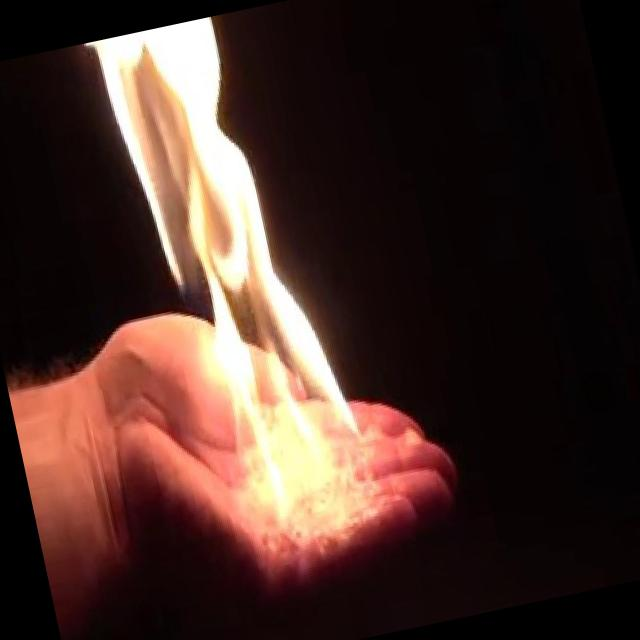Fire: (86, 2, 380, 548)
